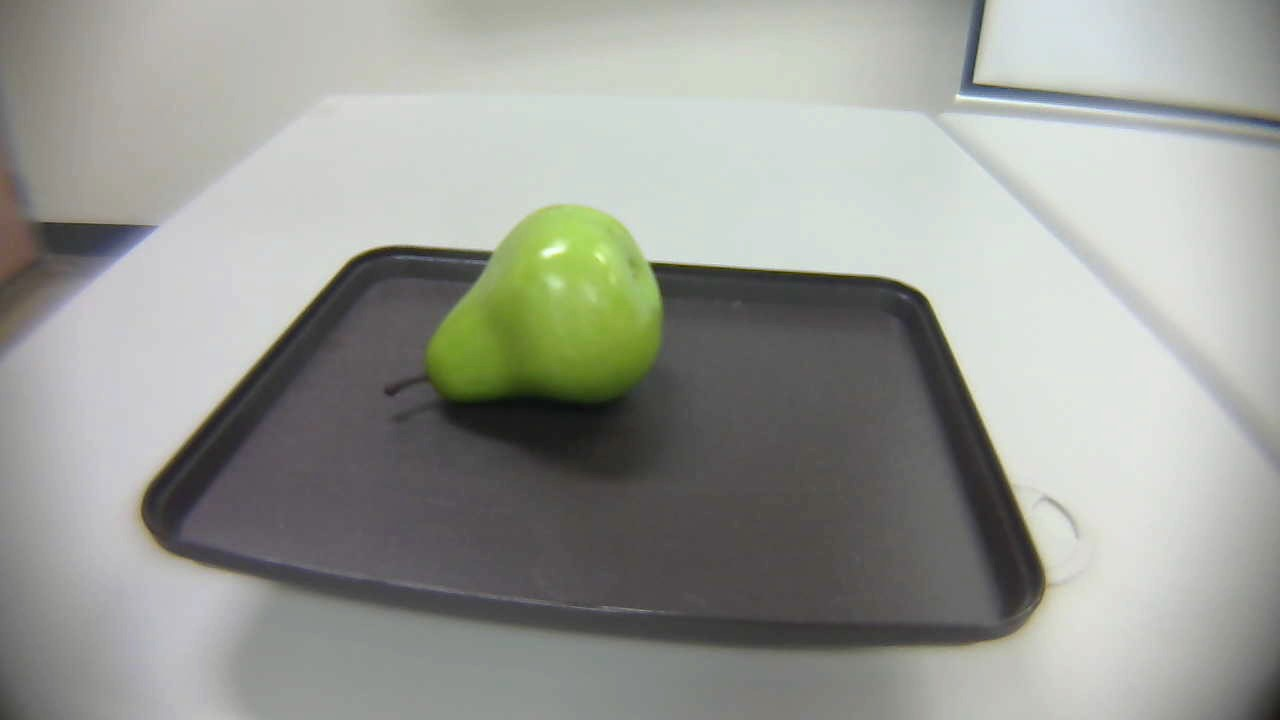green pear: (386, 193, 673, 424)
